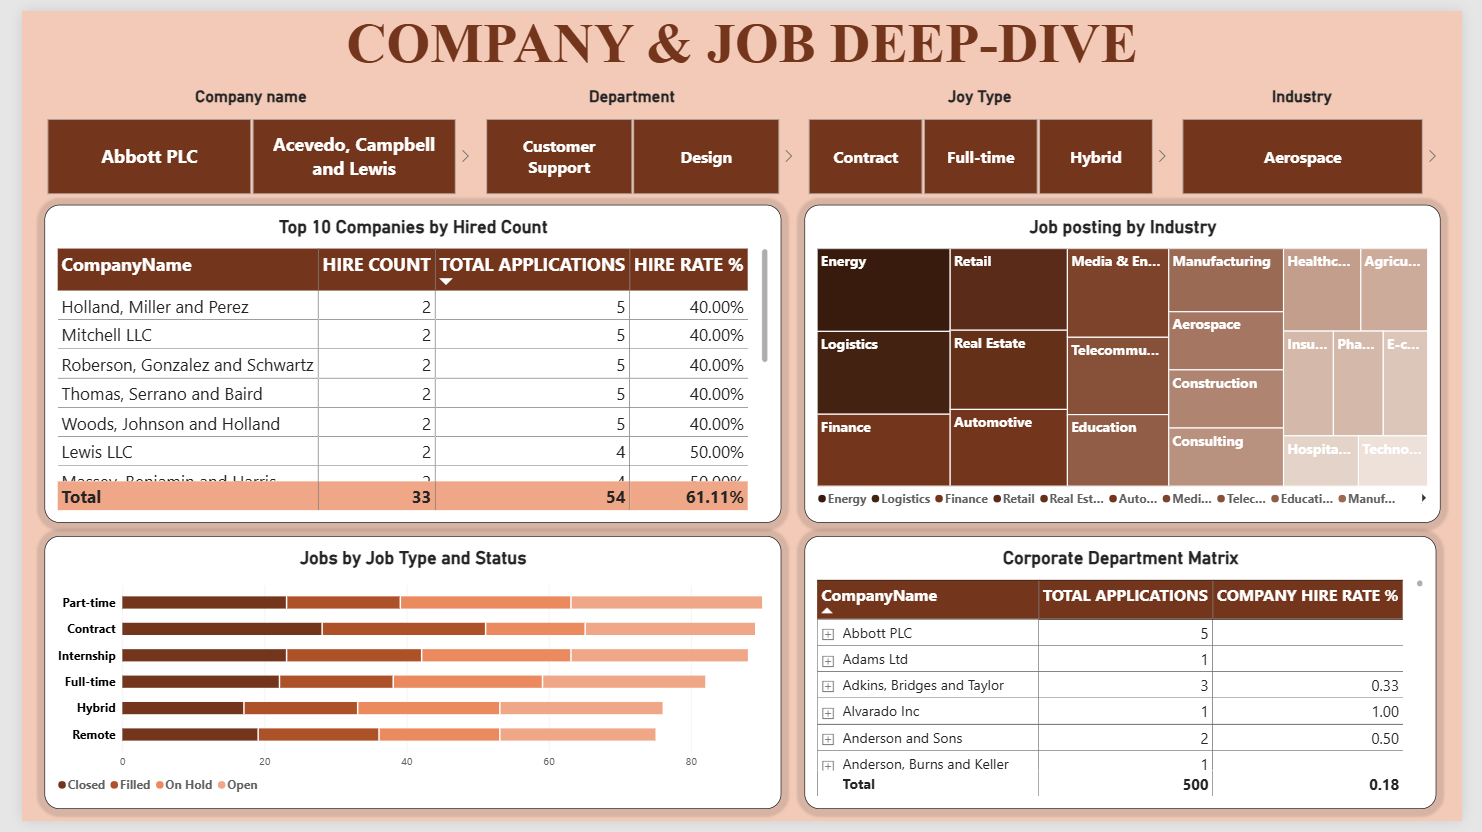

Layout of this report page (visuals, bound fields, positions):
{"tool":"powerbi","page":{"name":"COMPANY & JOB","canvas":[1920,1080],"ordinal":1},"visuals":[{"type":"pivotTable","title":"Corporate Department Matrix","fields":{"Rows":["Companies.CompanyName","Jobs.Department"],"Values":["Applications.TOTAL APPLICATIONS","Applications.COMPANY HIRE RATE %"]},"box":[1044,700,842,364],"z":0},{"type":"barChart","title":"Jobs by Job Type and Status","fields":{"Category":["Jobs.JobType"],"Series":["Jobs.Status"],"Y":["Applications.TOTAL JOBS"]},"box":[30,700,982,364],"z":1000},{"type":"treemap","title":"Job posting by Industry","fields":{"Group":["Companies.Industry"],"Values":["Applications.TOTAL JOBS"]},"box":[1044,258,848,424],"z":2000},{"type":"tableEx","title":"Top 10 Companies by Hired Count","fields":{"Values":["Companies.CompanyName","Applications.HIRE COUNT","Applications.TOTAL APPLICATIONS","Applications.HIRE RATE %"]},"box":[30,258,982,424],"z":3000},{"type":"slicer","title":"Industry","fields":{"Values":["Companies.Industry"]},"box":[1526,102,360,144],"z":4000},{"type":"slicer","title":"Company name","fields":{"Values":["Companies.CompanyName"]},"box":[14,102,584,144],"z":5000},{"type":"slicer","title":"Department","fields":{"Values":["Jobs.Department"]},"box":[598,102,430,144],"z":6000},{"type":"slicer","title":"Joy Type","fields":{"Values":["Jobs.JobType"]},"box":[1028,102,498,144],"z":7000},{"type":"textbox","title":"COMPANY & JOB DEEP-DIVE","box":[0,0,1920,118],"z":8000}]}

Visuals, with their boxes in screenshot pixels (x1, y1, x2, y2), scaled from the page's 1920x1080 canvas onto the 1482x832 screenshot:
"Corporate Department Matrix" pivotTable: bbox(806, 539, 1456, 820)
"Jobs by Job Type and Status" barChart: bbox(23, 539, 781, 820)
"Job posting by Industry" treemap: bbox(806, 199, 1460, 525)
"Top 10 Companies by Hired Count" tableEx: bbox(23, 199, 781, 525)
"Industry" slicer: bbox(1178, 79, 1456, 190)
"Company name" slicer: bbox(11, 79, 462, 190)
"Department" slicer: bbox(462, 79, 793, 190)
"Joy Type" slicer: bbox(793, 79, 1178, 190)
"COMPANY & JOB DEEP-DIVE" textbox: bbox(0, 0, 1481, 91)
